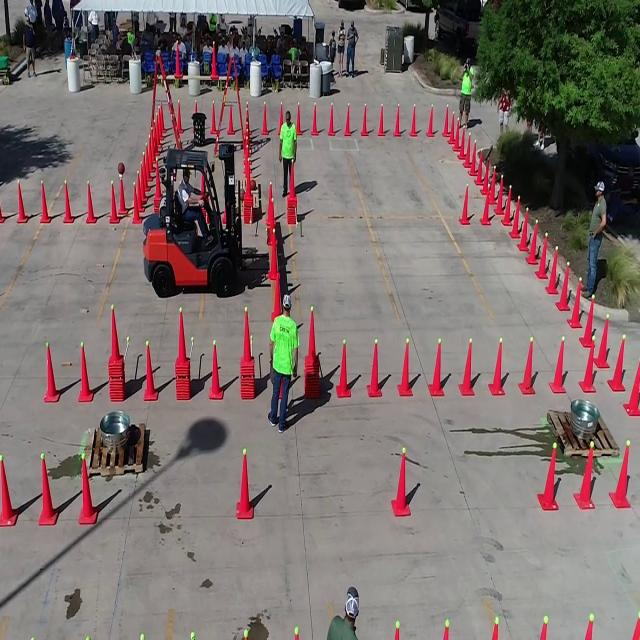Chariot elevateur: (139, 140, 251, 305)
